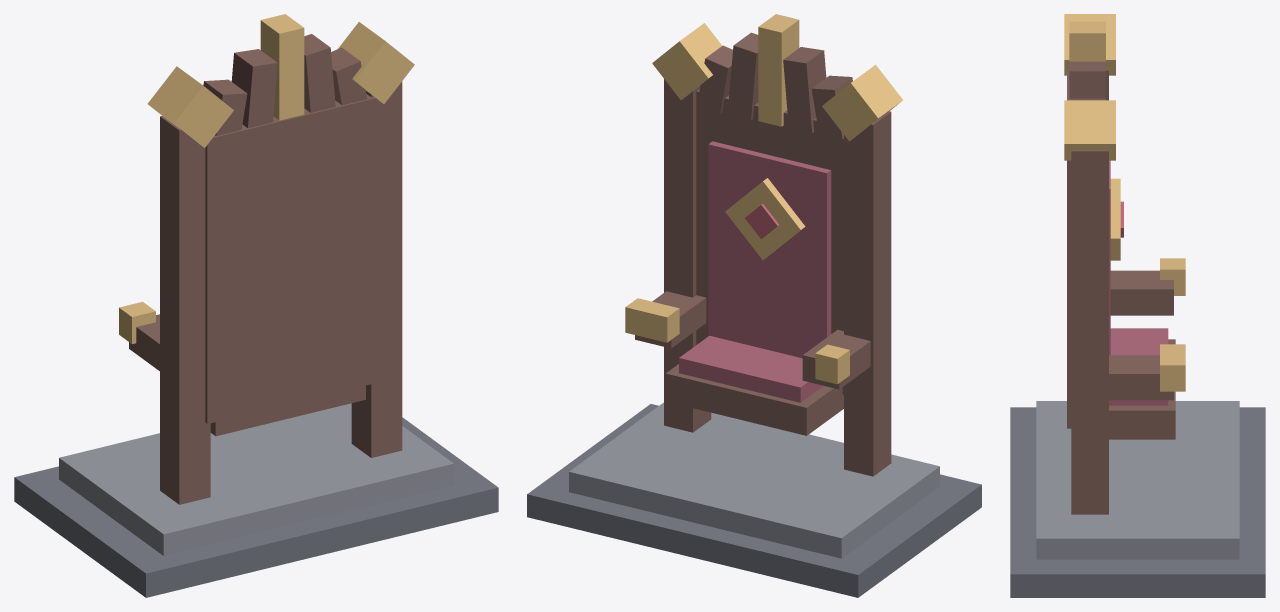
The model's file is gothic_throne.glb.
The picture shows the model from 3 angles, left to right: view 1: azimuth 30°, elevation 25°; view 2: azimuth 150°, elevation 25°; view 3: azimuth 270°, elevation 25°; orthographic projection. The views are drawn at different scales.
Visible parts, largest first — view 1: Moonpost Castle Lord Throne; view 2: Moonpost Castle Lord Throne; view 3: Moonpost Castle Lord Throne.
Part boxes in pixels (x1=…): Moonpost Castle Lord Throne: x1=14, y1=14, x2=498, y2=597; Moonpost Castle Lord Throne: x1=527, y1=14, x2=981, y2=597; Moonpost Castle Lord Throne: x1=1010, y1=14, x2=1265, y2=597.
Size of the model in its own units: 6.8 by 9.25 by 4.4.
